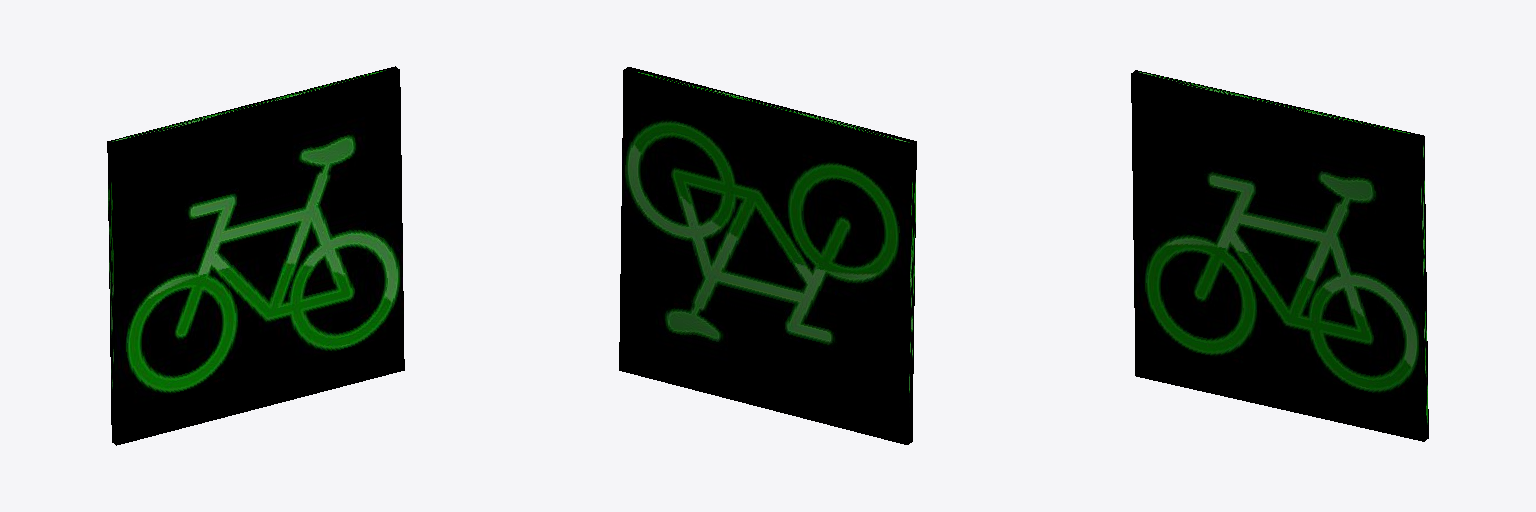
3 renders of one model, left to right at view 1: azimuth 30°, elevation 25°; view 2: azimuth 150°, elevation 25°; view 3: azimuth 330°, elevation 25°, orthographic.
Visible parts, largest first — view 1: cycle3; view 2: cycle3; view 3: cycle3.
Part boxes in pixels (x1,y1,x2,y2): cycle3: (107, 66, 404, 445); cycle3: (619, 67, 916, 444); cycle3: (1131, 70, 1428, 441).
Size of the model in its own units: 2.03 by 2.03 by 0.0611.
1 materials, 1 textured.